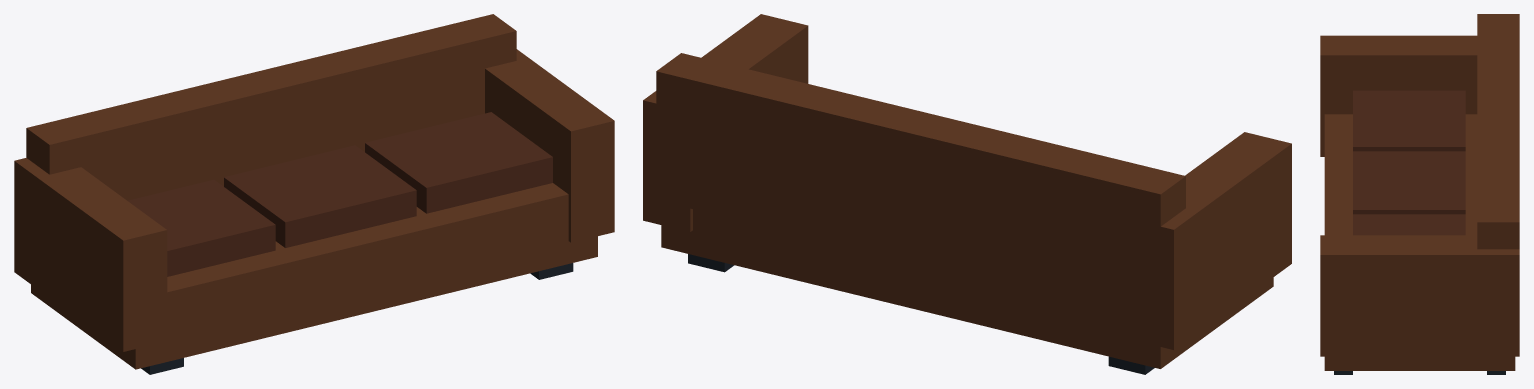
Rendered from sofa_leather.glb.
3 views of the same model, side by side, from view 1: azimuth 30°, elevation 25°; view 2: azimuth 150°, elevation 25°; view 3: azimuth 270°, elevation 25° (orthographic). The views are drawn at different scales.
Visible parts, largest first — view 1: body; view 2: body; view 3: body.
Boxes of the visible parts, x1=… form: body: x1=14, y1=14, x2=614, y2=374; body: x1=643, y1=14, x2=1291, y2=374; body: x1=1320, y1=14, x2=1519, y2=374.
Size of the model in its own units: 2.2 by 0.7607 by 0.846.
1 material, 1 textured.
